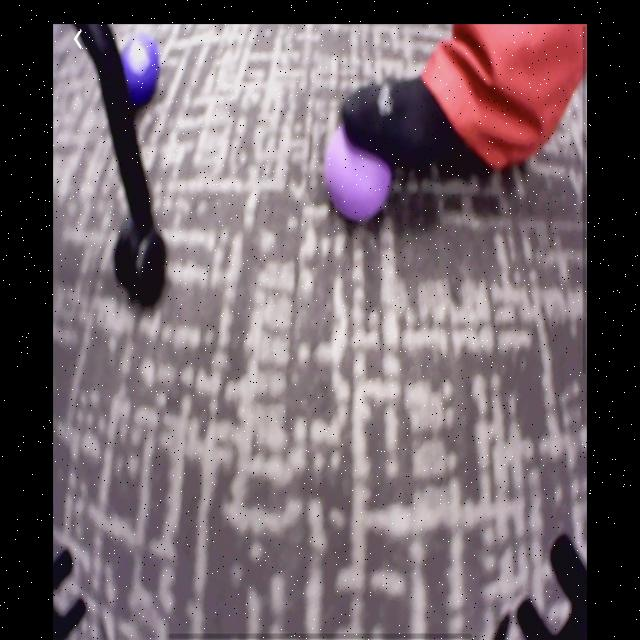ball: (326, 125, 392, 221), (121, 36, 160, 104)
